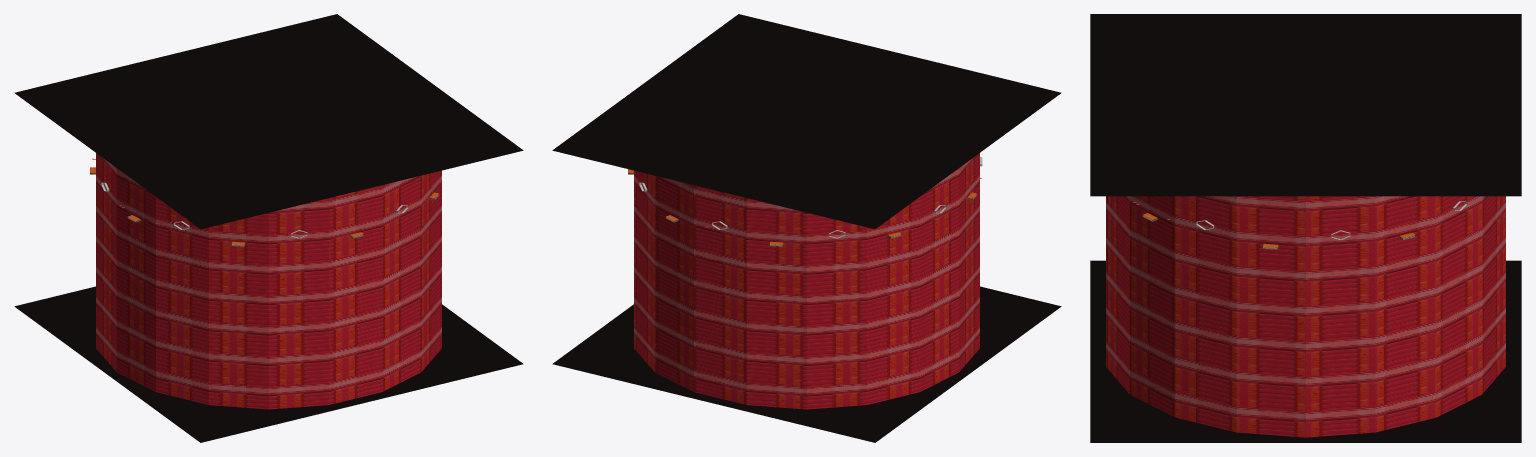
The model's file is OBJ08_TUNNEL.obj.
3 renders of one model, left to right at view 1: azimuth 30°, elevation 25°; view 2: azimuth 150°, elevation 25°; view 3: azimuth 270°, elevation 25°, orthographic. The views are drawn at different scales.
Parts seen in each view (by area): view 1: tunel_dark, wall, Object_1; view 2: tunel_dark, wall, Object_1; view 3: tunel_dark, wall, Object_1.
Part boxes in pixels (x1,y1,x2,y2): tunel_dark: (14, 14, 523, 442); wall: (96, 153, 441, 409); Object_1: (90, 158, 441, 246); tunel_dark: (552, 14, 1061, 442); wall: (634, 153, 979, 409); Object_1: (628, 157, 982, 246); tunel_dark: (1090, 14, 1521, 442); wall: (1106, 196, 1505, 437); Object_1: (1133, 201, 1467, 249).
Size of the model in its own units: 11466 by 7250 by 11466.
